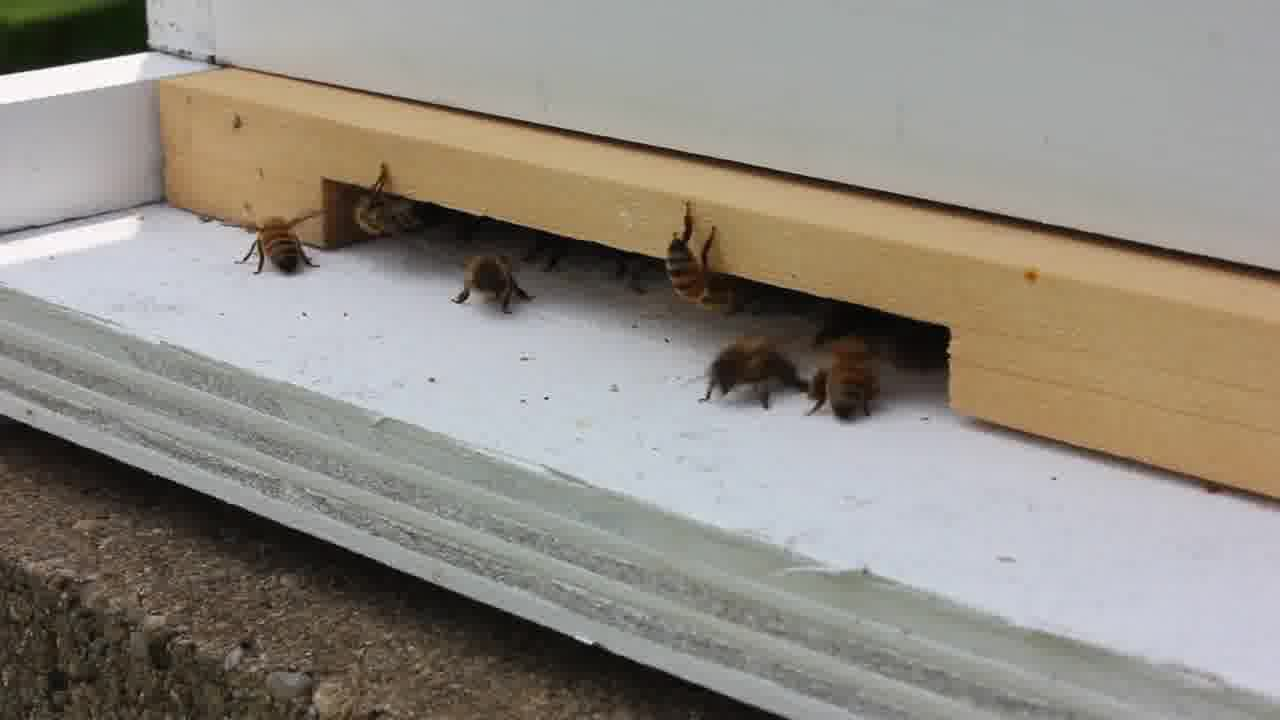pollen: (810, 339, 895, 419)
